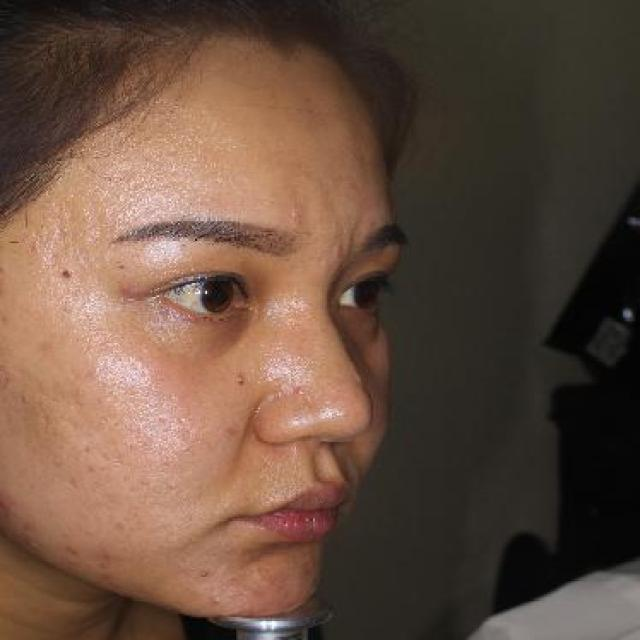dark spot: (230, 366, 258, 394), (218, 422, 242, 443), (92, 544, 116, 564), (58, 542, 86, 558)
whiteheads: (80, 340, 104, 358), (120, 172, 144, 186)
